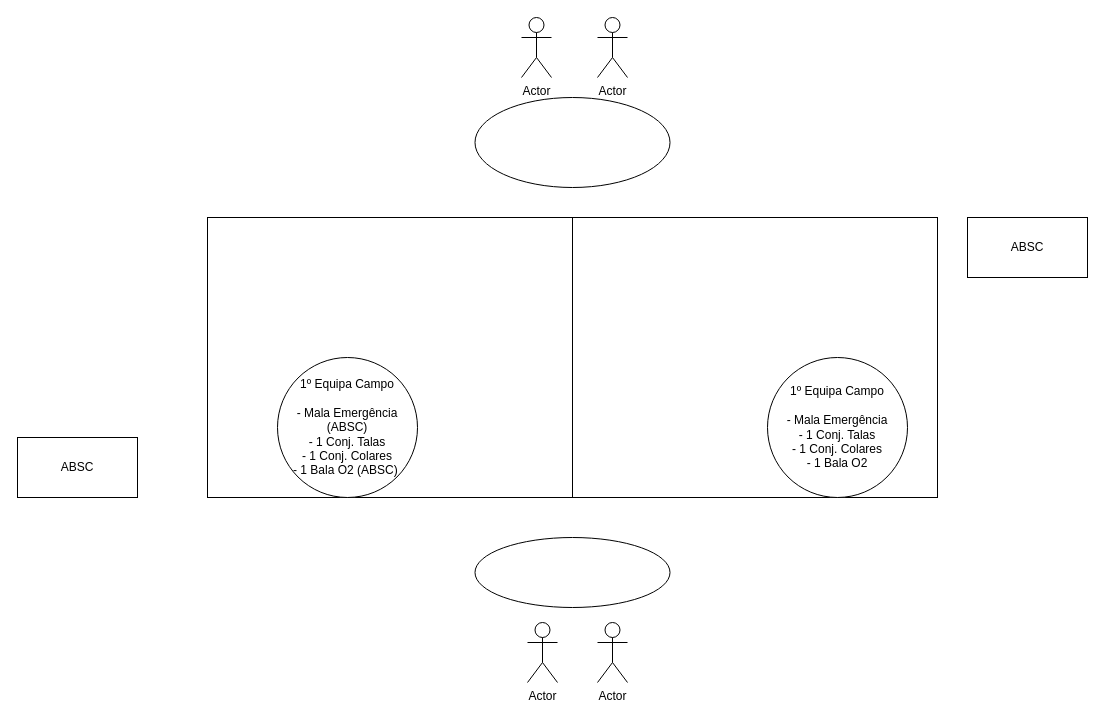
Some shapes in this 1105 by 721 pixel diagram are drawn without their labels. Each missing label, with the centre of its shape:
"1º Equipa Apeada - ECO" belongs at point (572, 572).
"1º Equipa Apeada - ECO DAE - Bala O2" belongs at point (572, 142).
